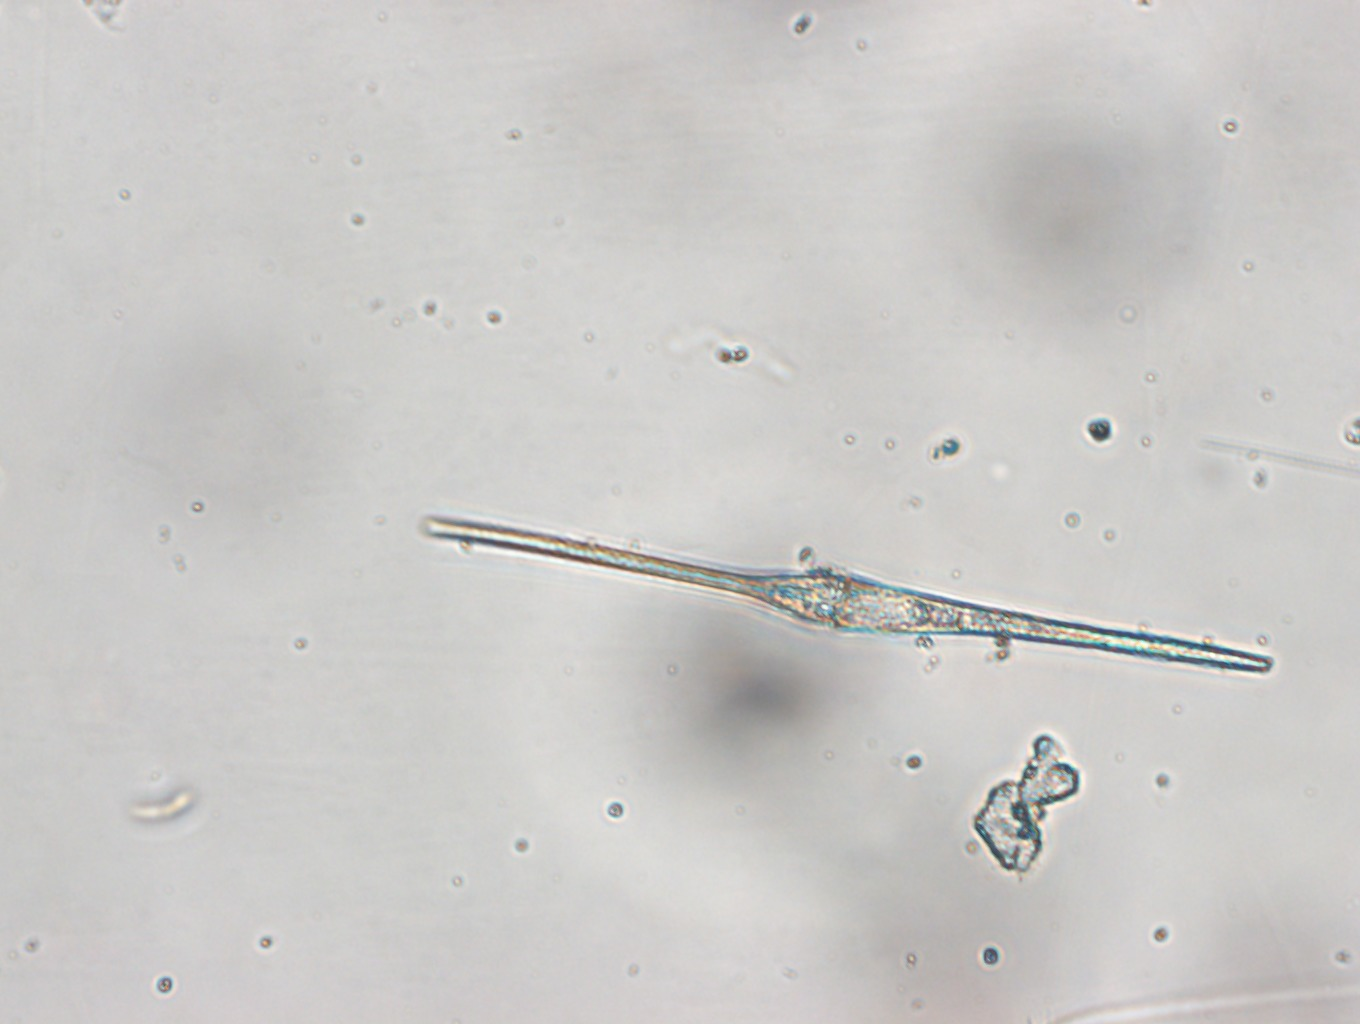ceratium fusus: (417, 513, 1272, 675)
